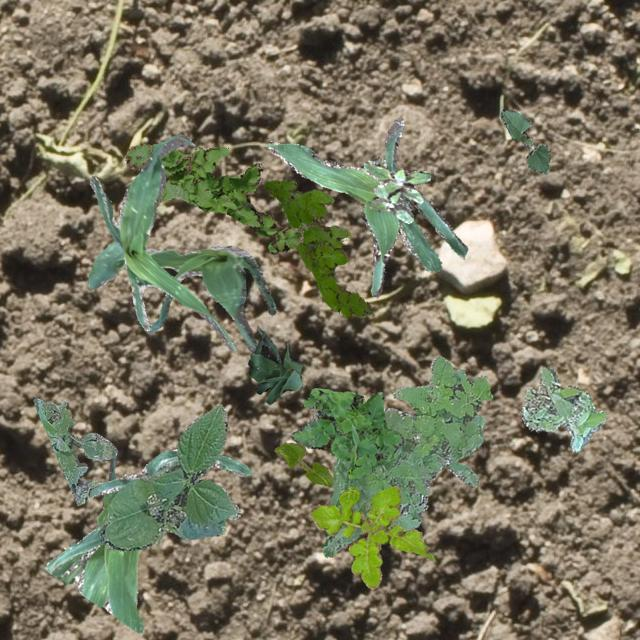crop: (42, 448, 250, 632), (268, 116, 467, 296), (88, 134, 235, 350), (88, 240, 274, 350), (99, 404, 238, 550), (246, 326, 302, 402), (500, 108, 550, 172), (274, 442, 332, 486), (372, 156, 410, 210), (95, 454, 117, 526)
weed: (320, 354, 492, 556), (125, 142, 302, 254), (264, 178, 370, 316), (308, 484, 434, 588), (290, 386, 404, 478), (32, 396, 116, 504), (520, 366, 604, 452), (362, 160, 430, 222)
